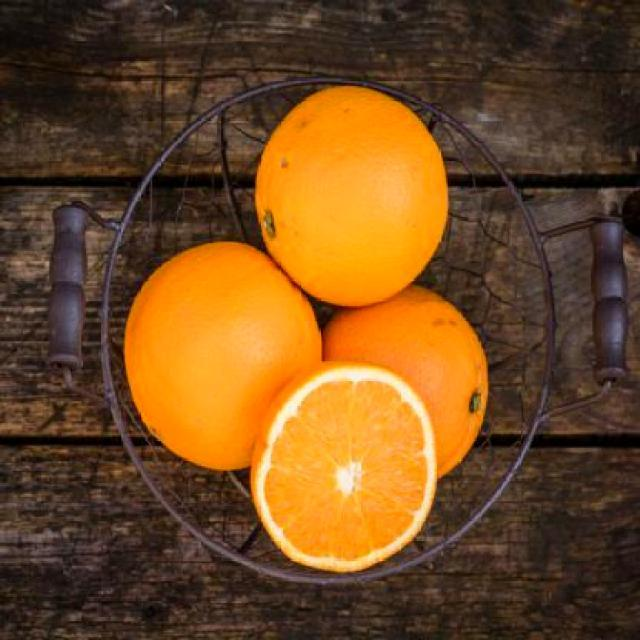Jeruk Sudah Matang: (126, 243, 329, 472), (257, 80, 445, 303), (303, 282, 492, 484)
